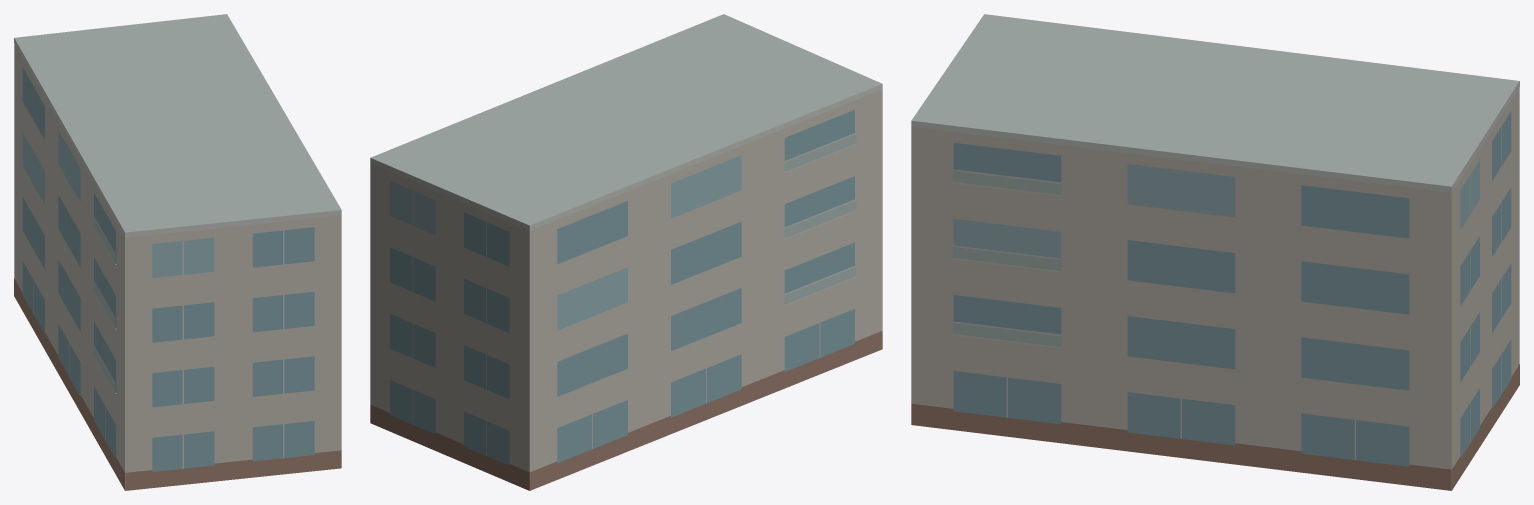
Rendered from survey-upis-32880933.glb.
The picture shows the model from 3 angles, left to right: view 1: azimuth 30°, elevation 25°; view 2: azimuth 150°, elevation 25°; view 3: azimuth 270°, elevation 25°; orthographic projection. The views are drawn at different scales.
Parts seen in each view (by area): view 1: survey-upis-32880933.tmp; view 2: survey-upis-32880933.tmp; view 3: survey-upis-32880933.tmp.
Boxes of the visible parts, <box> form: survey-upis-32880933.tmp: <box>14,14,341,490</box>; survey-upis-32880933.tmp: <box>370,14,882,490</box>; survey-upis-32880933.tmp: <box>911,14,1519,490</box>.
Size of the model in its own units: 14.86 by 12.2 by 22.12.
